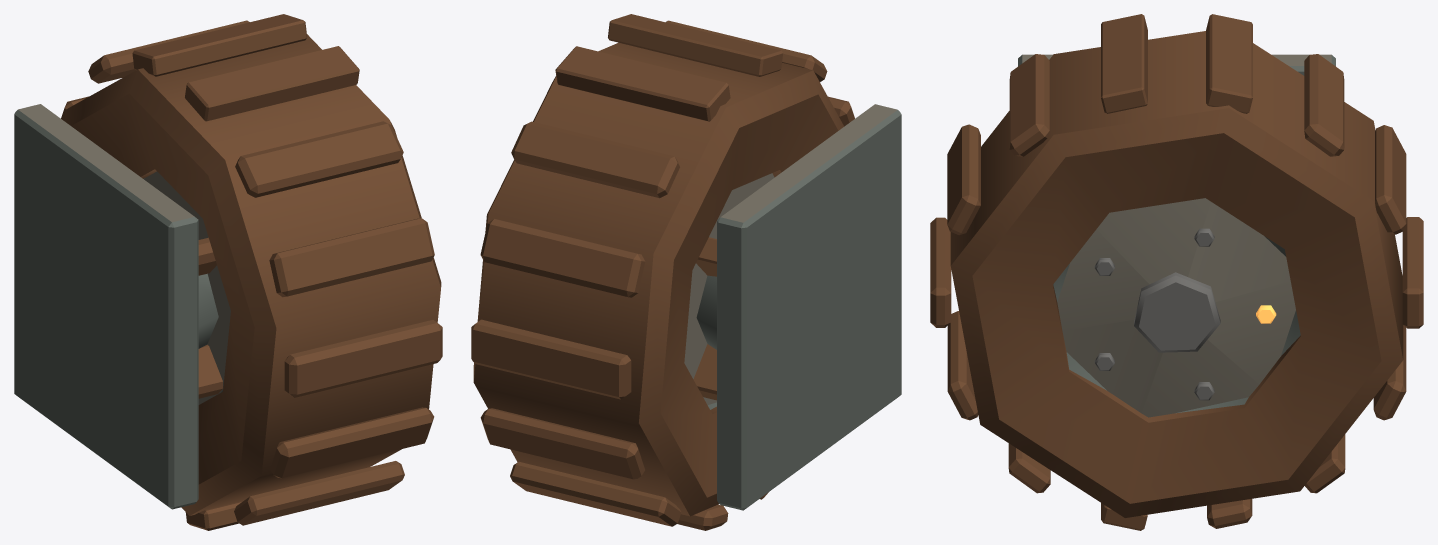
Rendered from R4M_WheelM_Side_Offroad_LOD1.fbx.
3 views of the same model, side by side, from view 1: azimuth 30°, elevation 25°; view 2: azimuth 150°, elevation 25°; view 3: azimuth 270°, elevation 25° (orthographic).
Visible parts, largest first — view 1: R4M_WheelM_Side_Offroad_LOD1; view 2: R4M_WheelM_Side_Offroad_LOD1; view 3: R4M_WheelM_Side_Offroad_LOD1.
Part boxes in pixels (left/top/right/bottom): R4M_WheelM_Side_Offroad_LOD1: left=14, top=14, right=442, bottom=530; R4M_WheelM_Side_Offroad_LOD1: left=471, top=14, right=901, bottom=530; R4M_WheelM_Side_Offroad_LOD1: left=930, top=14, right=1423, bottom=530.
Size of the model in its own units: 0.452 by 0.7702 by 0.776.
